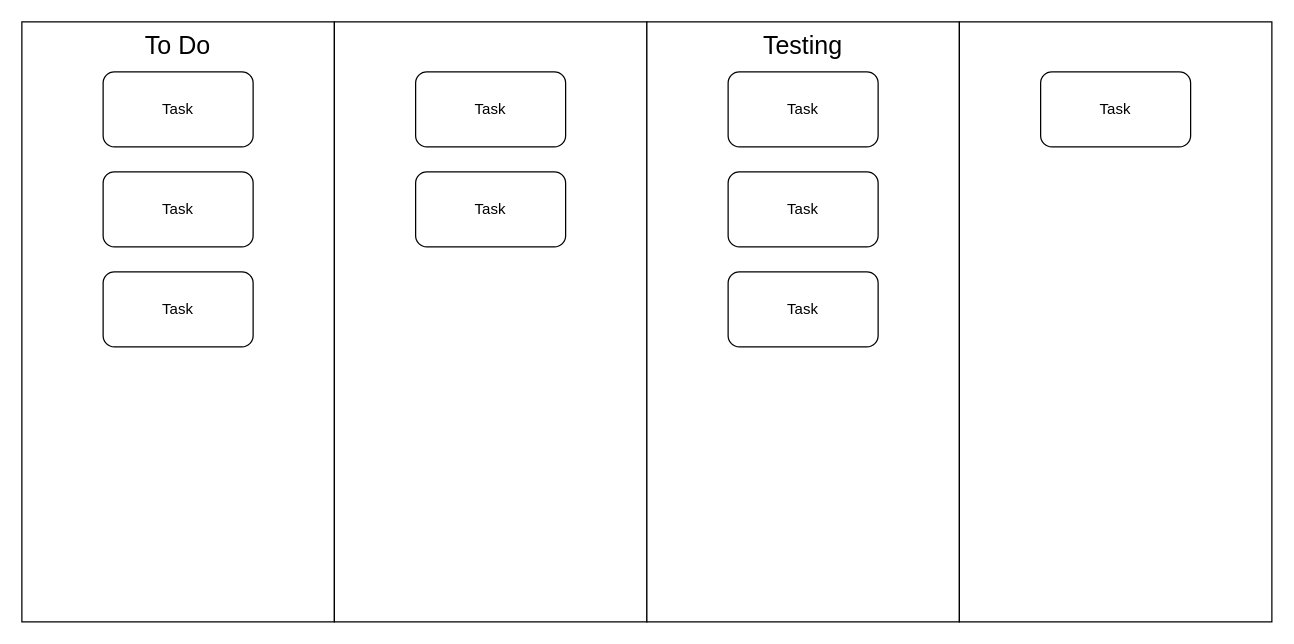
This 1294x644 diagram has some shape labels left out. The shapes that lost their labels are listed below. From the top down, each one's box as (x1, y1, x2, y2) in pixels, then its label:
(333, 21, 647, 622): Work In Progress
(958, 21, 1272, 622): Done
